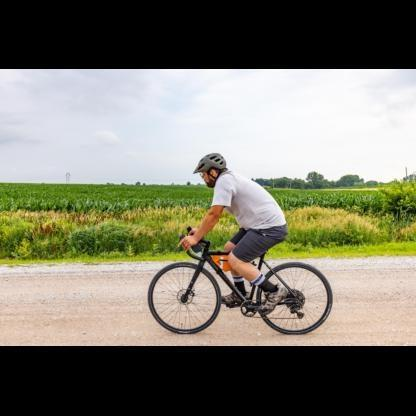Bicycle: (141, 231, 349, 347)
